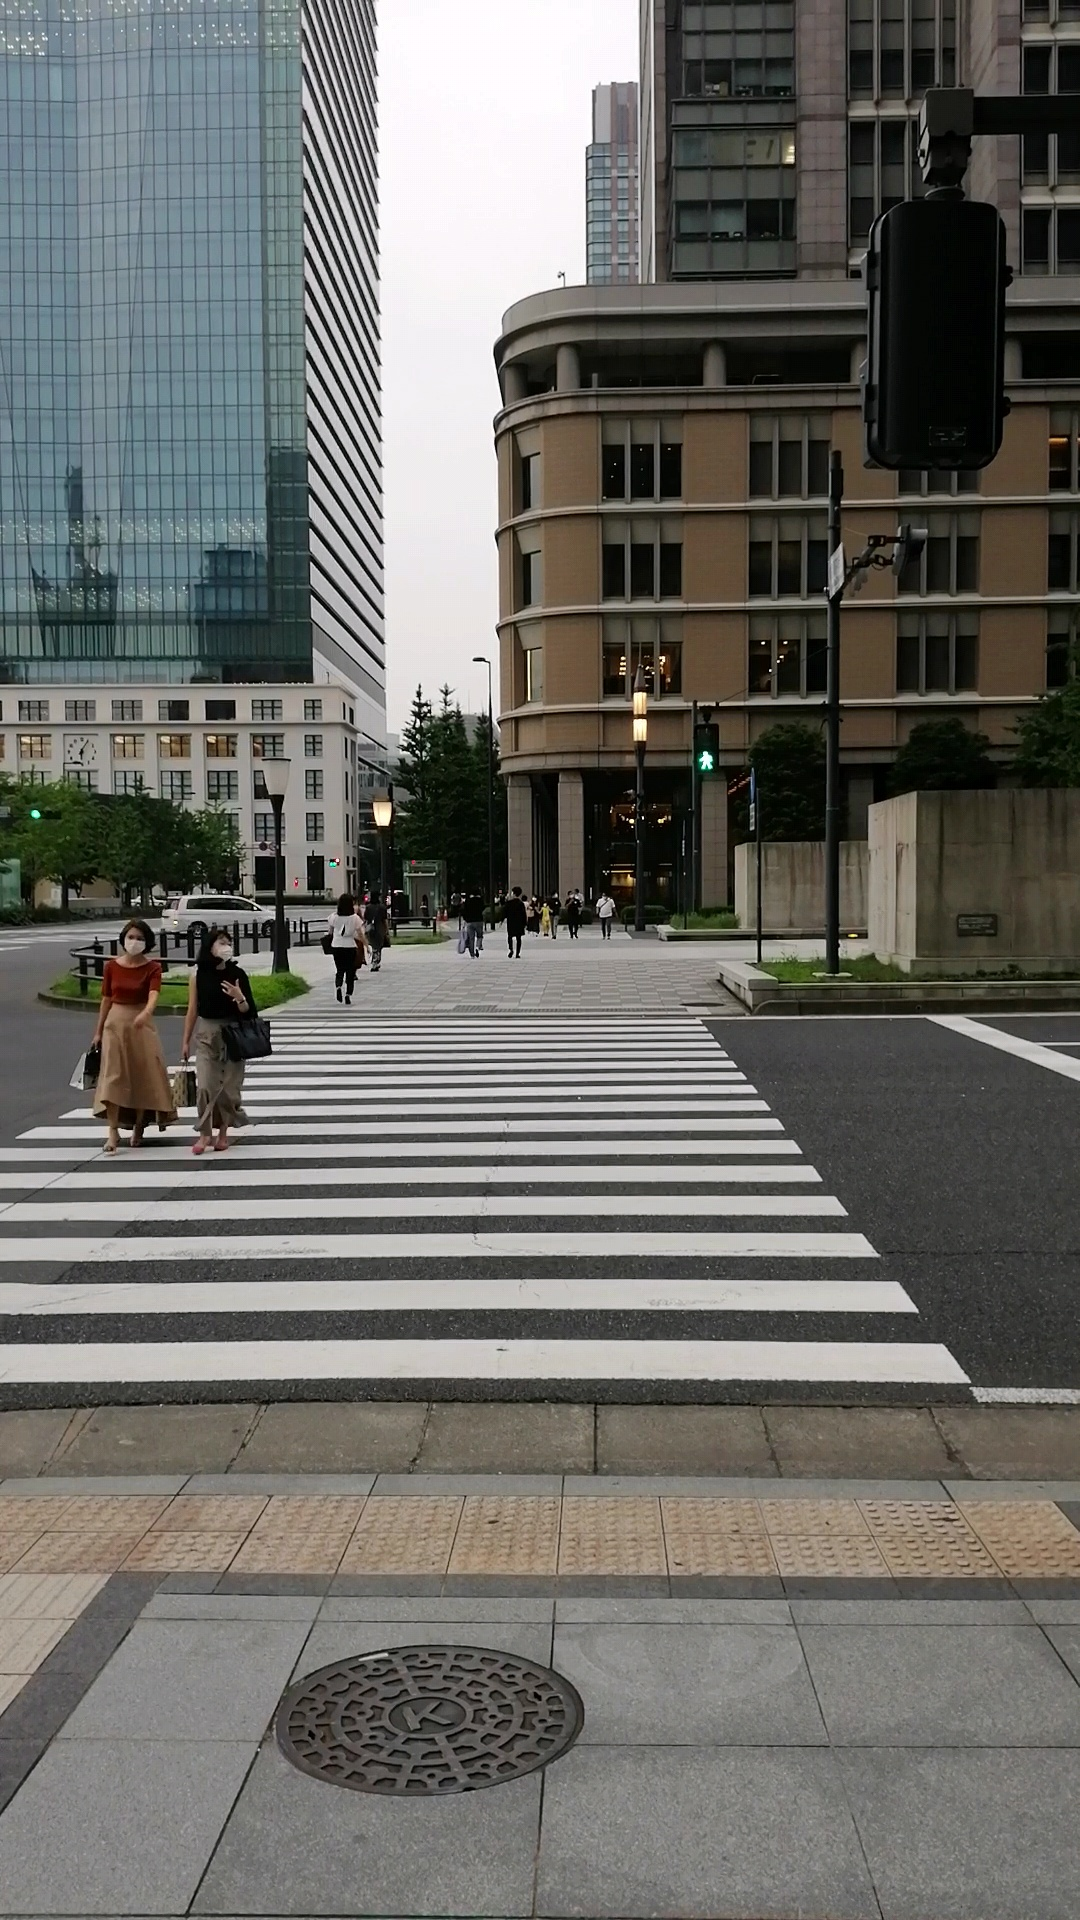green: (692, 720, 720, 777)
